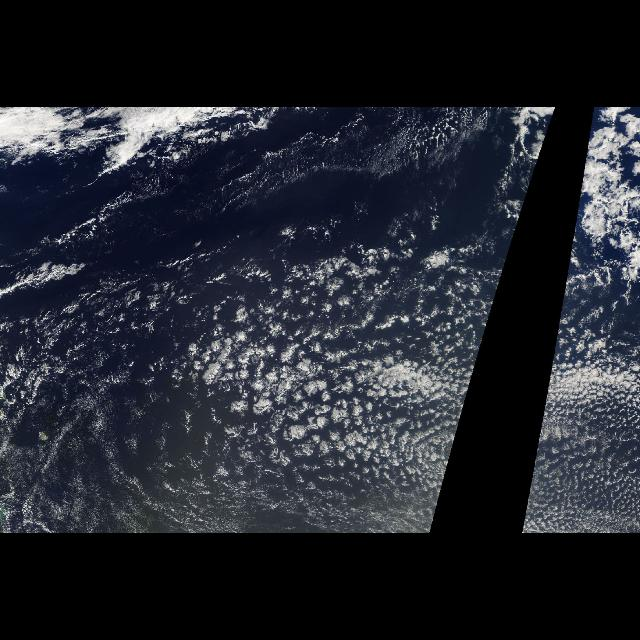Flower: (163, 263, 505, 519), (524, 263, 634, 519)
Gravel: (337, 111, 506, 185)
Sugar: (14, 366, 152, 524)
